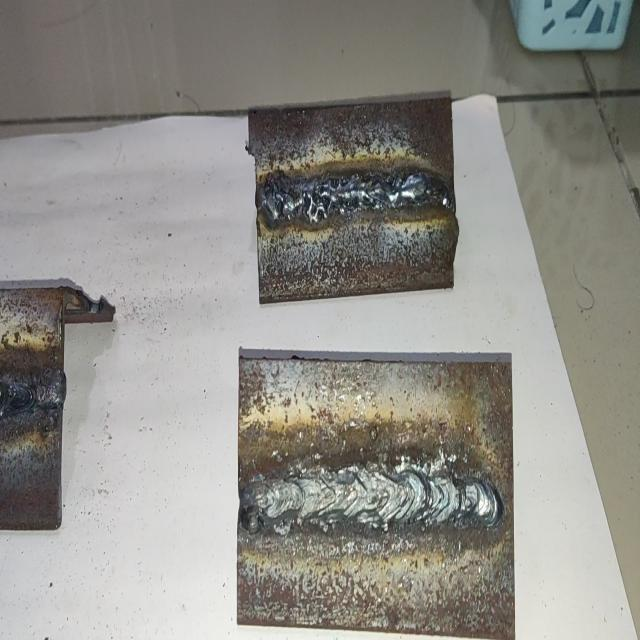Defect: (264, 166, 404, 224), (0, 364, 66, 420)
Welding Line: (240, 456, 502, 542), (257, 170, 449, 218)
Workpiece: (235, 350, 517, 634), (247, 90, 458, 304), (0, 284, 68, 528)
